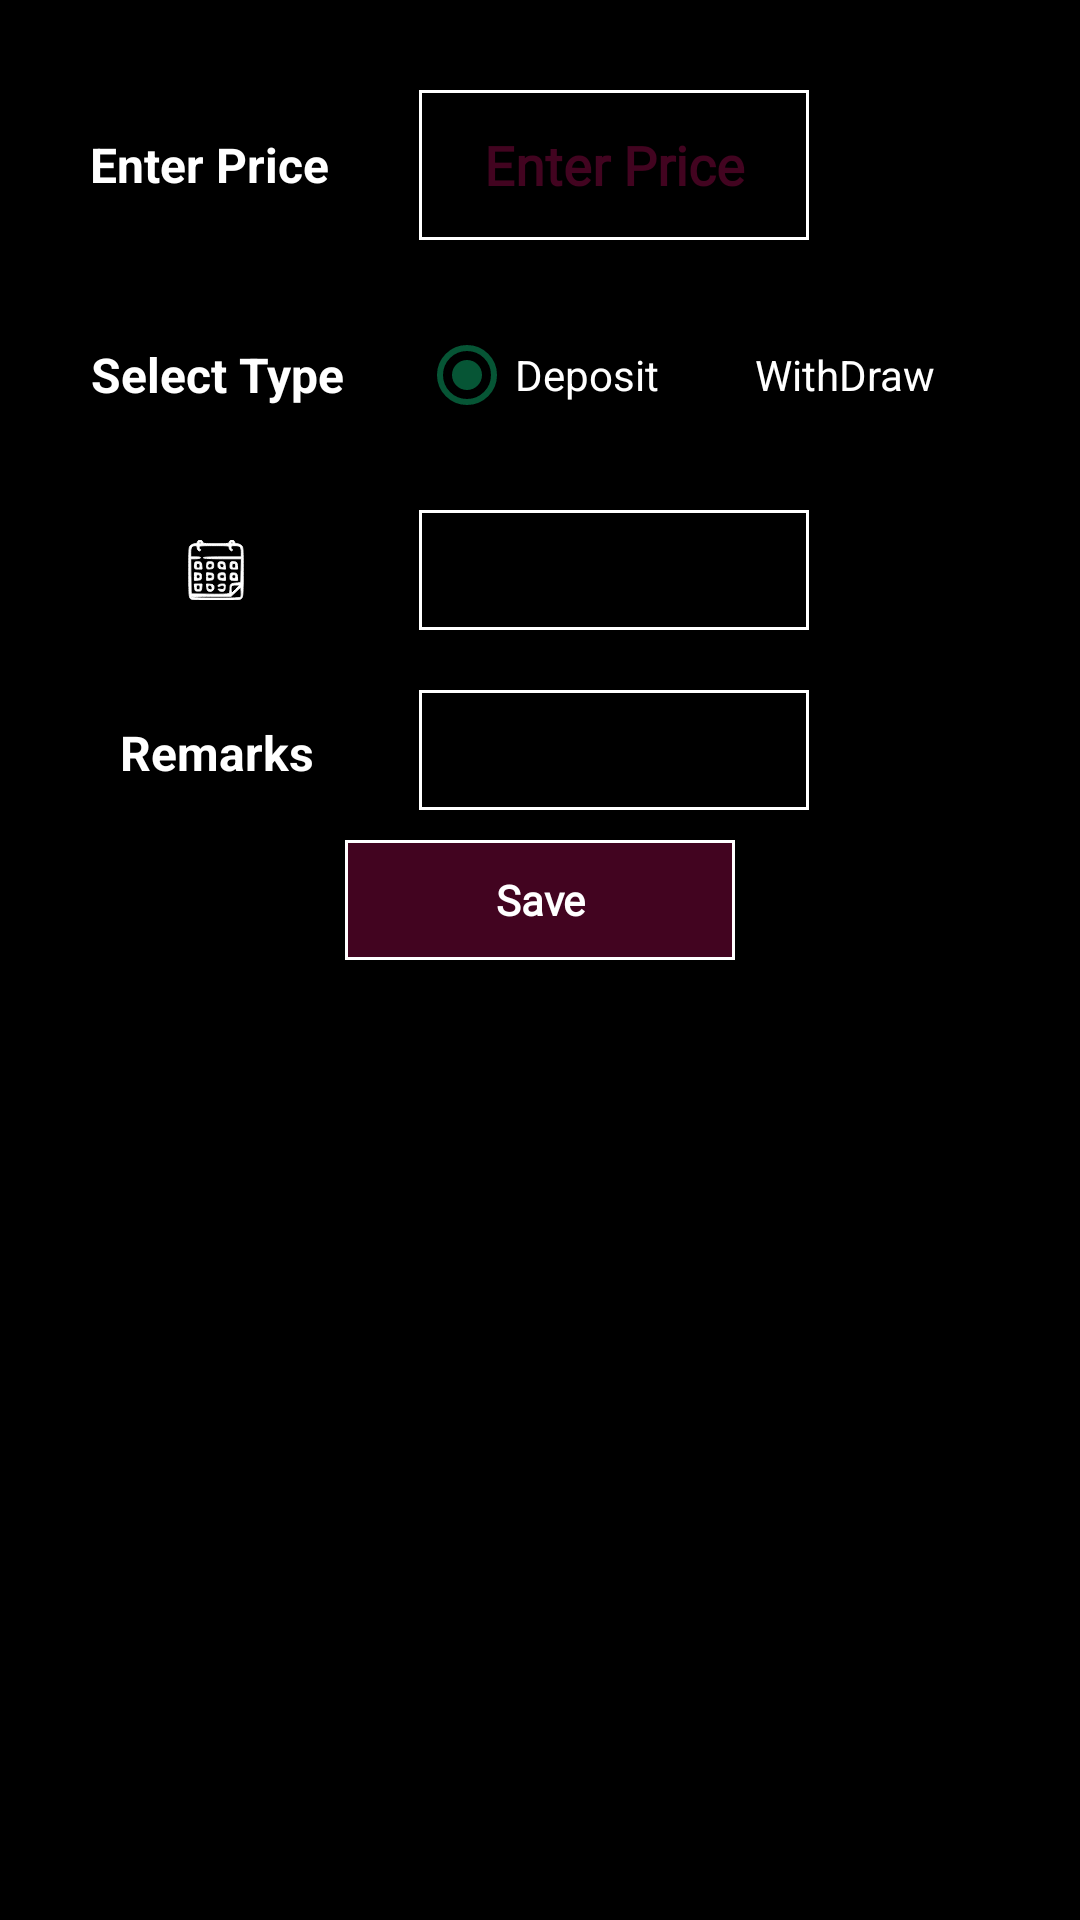

Where icons sit on this 1080px x 1920px app screen, as (x1, y1, x2, y2):
calendar: (188, 540, 244, 600)
